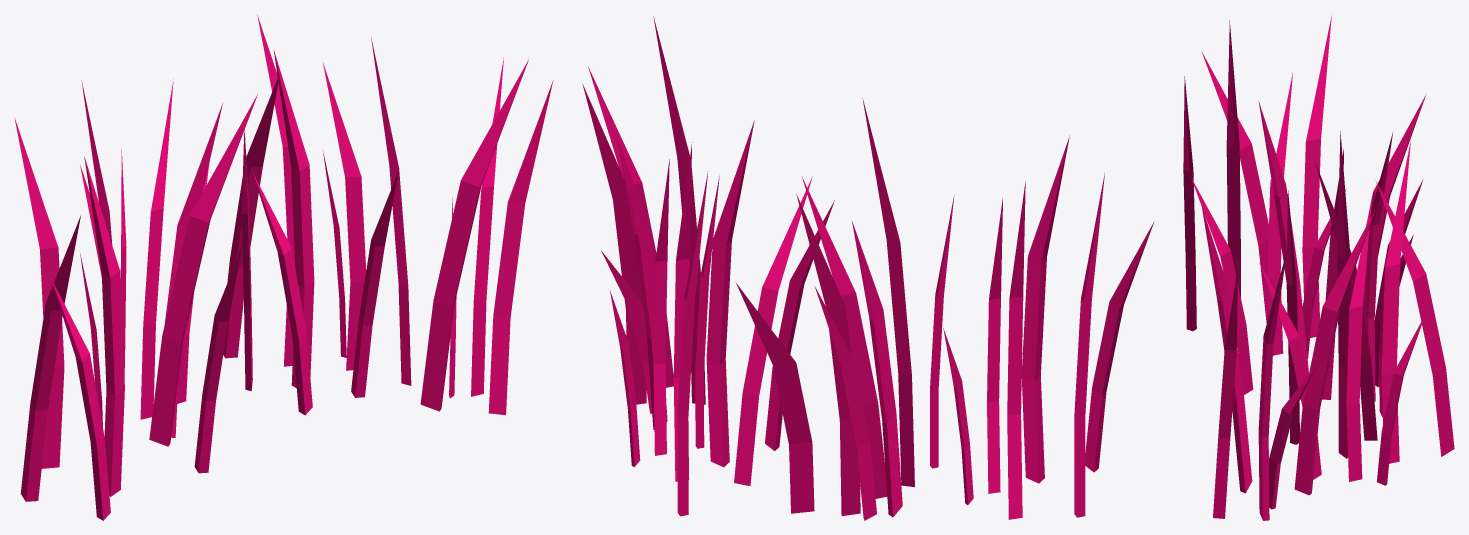
File: SM_SS_Grass_3.fbx
3 renders of one model, left to right at view 1: azimuth 30°, elevation 25°; view 2: azimuth 150°, elevation 25°; view 3: azimuth 270°, elevation 25°, orthographic. The views are drawn at different scales.
Visible parts, largest first — view 1: SM_SS_Grass_3; view 2: SM_SS_Grass_3; view 3: SM_SS_Grass_3.
Part boxes in pixels (box(x1,y1,x2,y2)): SM_SS_Grass_3: box(14, 15, 553, 520); SM_SS_Grass_3: box(582, 16, 1154, 520); SM_SS_Grass_3: box(1183, 14, 1454, 520).
Bounding box in the file's own units: 81.6 × 40.07 × 52.49.
